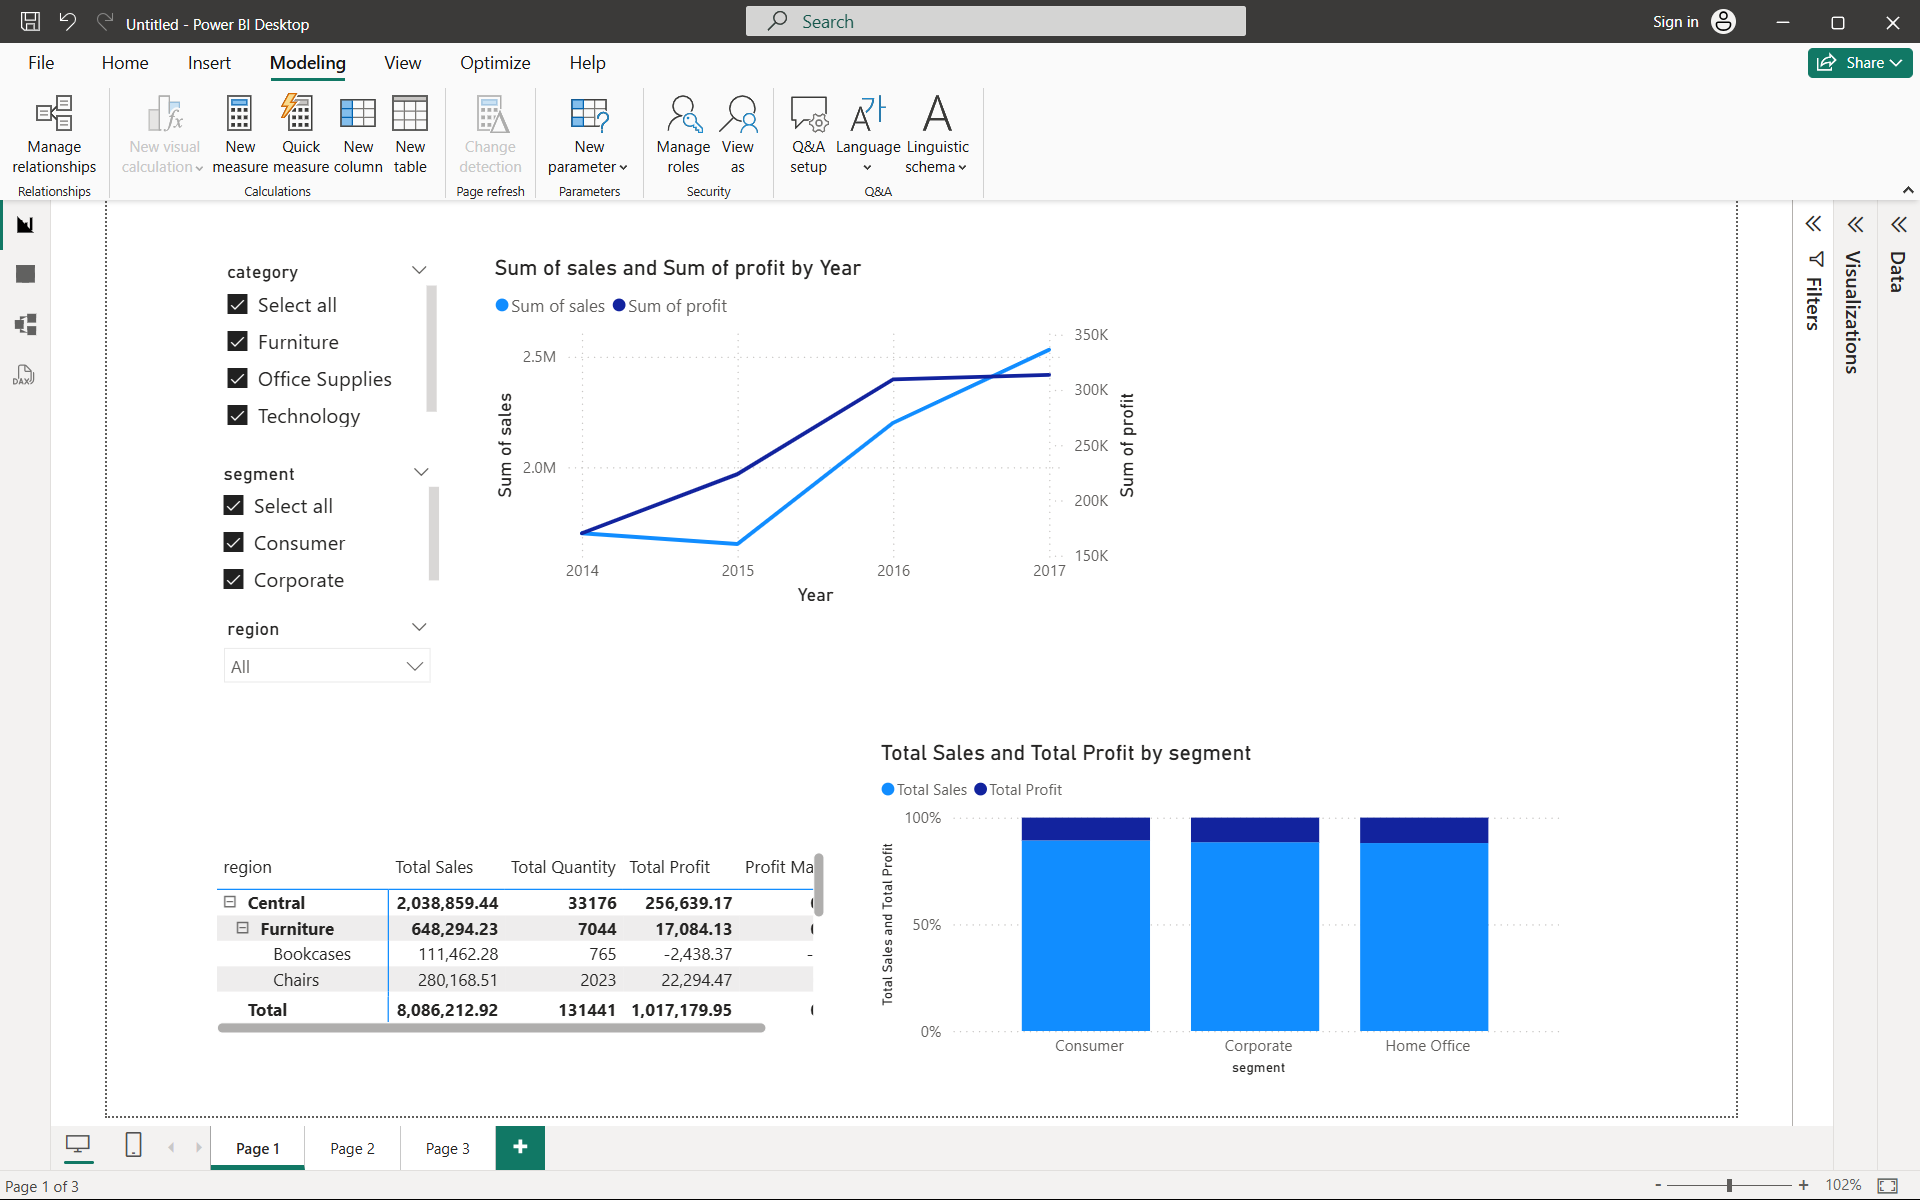

The dashboard page shown, as its layout file describes it:
{"tool":"powerbi","page":{"name":"Page 1","canvas":[1280,720],"ordinal":0},"visuals":[{"type":"lineChart","fields":{"Category":["mart fact_sales.order_date.Variation.Date Hierarchy.Year"],"Y":["Sum(mart fact_sales.sales)"],"Y2":["Sum(mart fact_sales.profit)"]},"box":[299.2,42.9,514.9,280],"z":0},{"type":"slicer","fields":{"Values":["mart dim_product.category"]},"box":[81.3,42.9,182.9,140],"z":1000},{"type":"slicer","fields":{"Values":["mart dim_customer.region"]},"box":[81.3,322.9,182.9,72.3],"z":2000},{"type":"pivotTable","fields":{"Values":["mart dim_customer.Total Sales","mart dim_customer.Total Quantity","mart dim_customer.Total Profit","mart dim_customer.Profit Margin"],"Rows":["mart dim_customer.region","mart dim_product.category","mart dim_product.sub_category"]},"box":[81.3,508.1,487.8,152.4],"z":3000},{"type":"hundredPercentStackedColumnChart","fields":{"Category":["mart dim_customer.segment"],"Y":["mart dim_customer.Total Sales","mart dim_customer.Total Profit"]},"box":[603,424.6,546.5,268.7],"z":4000},{"type":"slicer","fields":{"Values":["mart dim_customer.segment"]},"box":[79,201,187.4,121.9],"z":5000}]}

Visuals, with their boxes on the page's 1280x720 design canvas (x1, y1, x2, y2). These are canvas units, not pixel positions in the 1920x1200 screenshot, which may show the page scaled, cropped or inside an application window:
lineChart - mart fact_sales.order_date.Variation.Date Hierarchy.Year x Sum(mart fact_sales.sales): Rect(299, 43, 814, 323)
slicer - mart dim_product.category: Rect(81, 43, 264, 183)
slicer - mart dim_customer.region: Rect(81, 323, 264, 395)
pivotTable - mart dim_customer.Total Sales x mart dim_customer.Total Quantity: Rect(81, 508, 569, 660)
hundredPercentStackedColumnChart - mart dim_customer.segment x mart dim_customer.Total Sales: Rect(603, 425, 1150, 693)
slicer - mart dim_customer.segment: Rect(79, 201, 266, 323)
